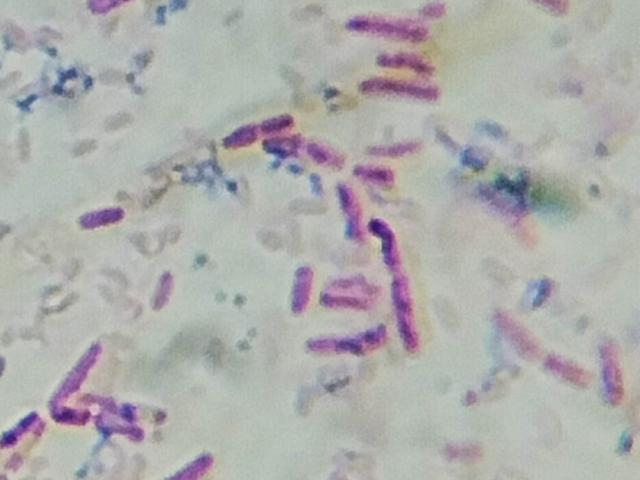E. coli: (372, 216, 432, 344), (308, 322, 387, 367), (342, 10, 444, 41), (58, 335, 113, 390), (593, 333, 629, 415), (269, 135, 349, 168), (218, 112, 298, 143), (541, 350, 596, 394), (88, 392, 171, 419), (155, 447, 218, 480), (3, 410, 40, 465), (495, 307, 534, 358), (376, 42, 436, 75), (333, 179, 363, 242), (358, 82, 444, 101), (288, 262, 315, 318), (353, 155, 399, 187), (99, 416, 146, 446), (80, 201, 124, 233), (325, 275, 361, 307), (153, 263, 175, 310), (55, 405, 90, 427)
